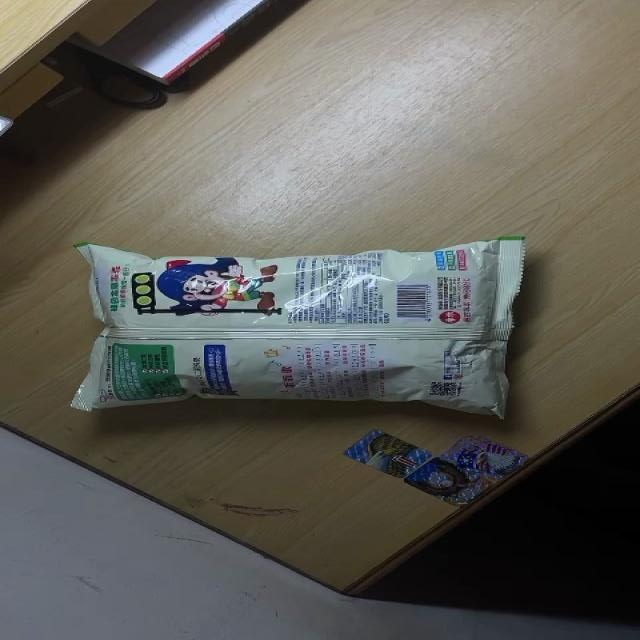Good-Luck: (70, 238, 529, 419)
